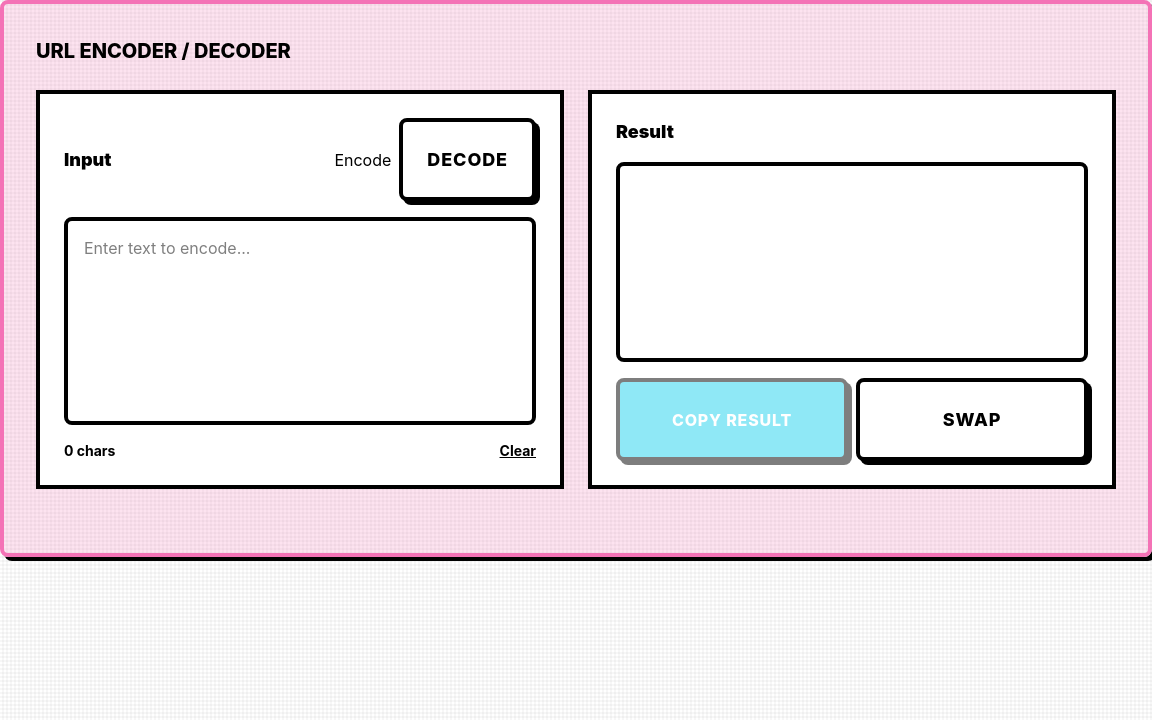
Test: Phase 1 Tools › URLEncoder › decodes text
# Switch to decode
Click the button "Decode".
click(468, 160)  # box [399, 118, 536, 201]
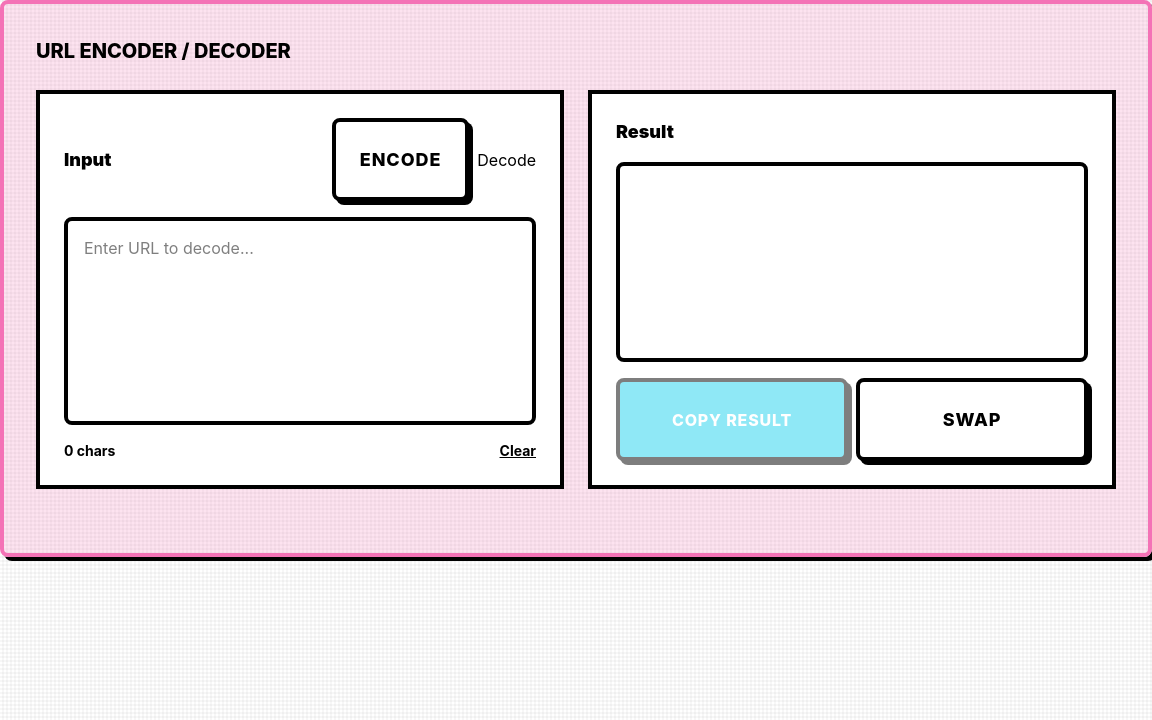
Type "hello%20world" into the text box with placeholder "Enter URL to decode...".
click(300, 321); type("hello%20world")  # box [64, 217, 536, 425]
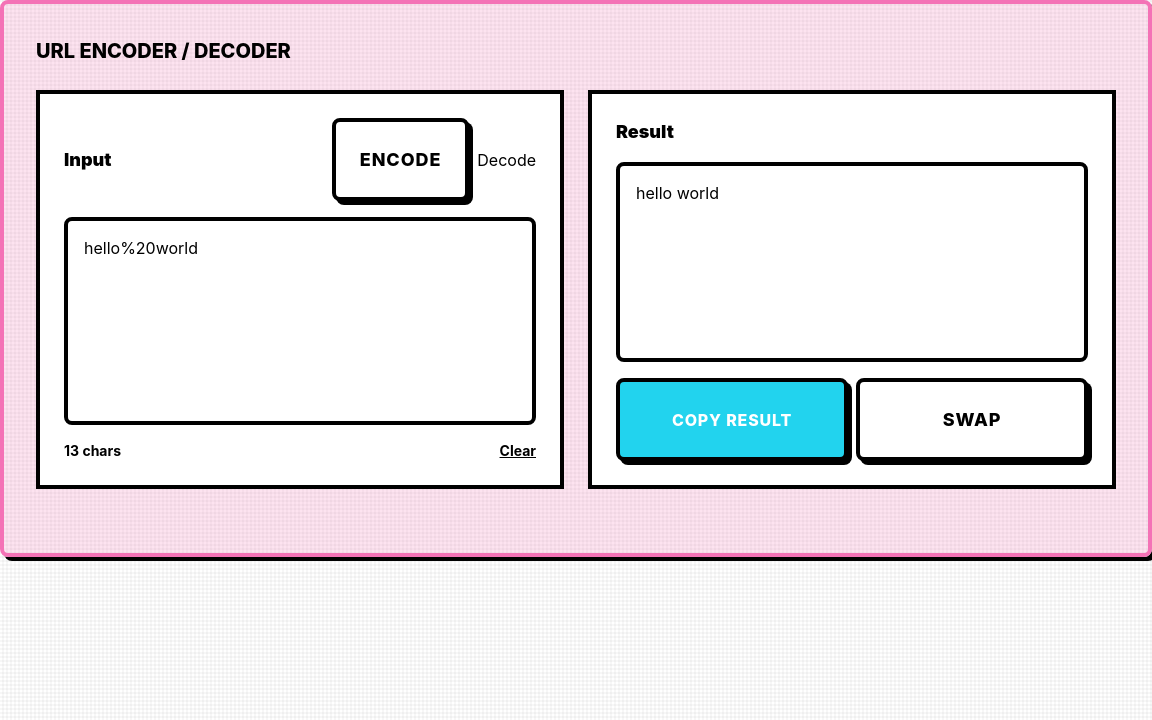
Result: the 1st text box holds "hello world" at [616, 162, 1088, 362]
